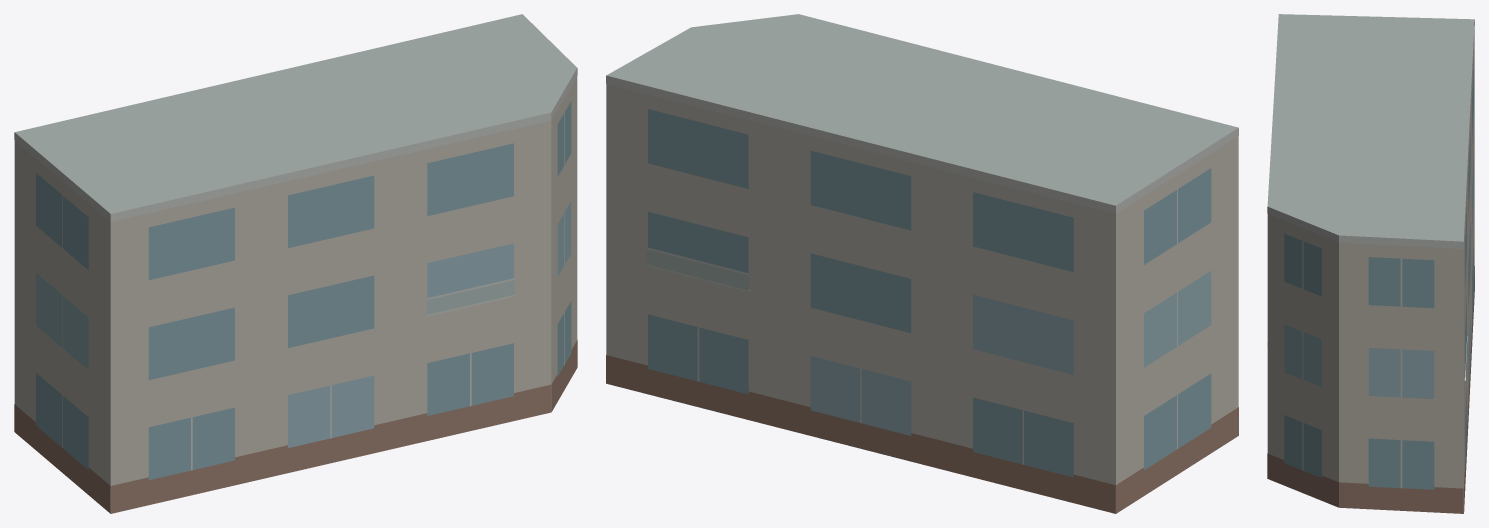
Rendered from survey-upis-32818302.glb.
3 renders of one model, left to right at view 1: azimuth 30°, elevation 25°; view 2: azimuth 150°, elevation 25°; view 3: azimuth 270°, elevation 25°, orthographic. The views are drawn at different scales.
Parts seen in each view (by area): view 1: survey-upis-32818302.tmp; view 2: survey-upis-32818302.tmp; view 3: survey-upis-32818302.tmp.
Part boxes in pixels (x1,y1,x2,y2): survey-upis-32818302.tmp: [14, 14, 577, 513]; survey-upis-32818302.tmp: [606, 14, 1238, 513]; survey-upis-32818302.tmp: [1267, 14, 1474, 513].
Size of the model in its own units: 16.42 by 9.15 by 6.33.
